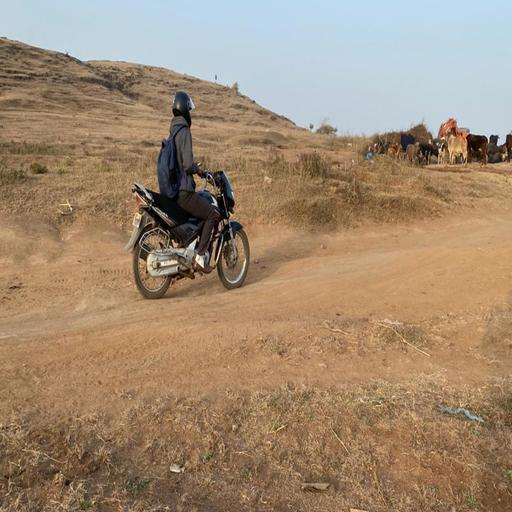vehicle_track: (0, 212, 512, 379)
